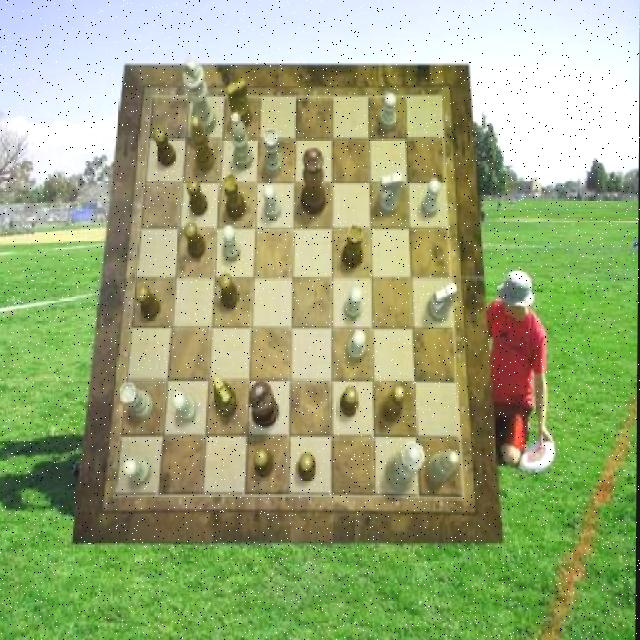bishop: (191, 115, 215, 173), (381, 386, 406, 424)
black-bishop: (249, 381, 279, 427)
black-king: (225, 78, 250, 130), (213, 374, 238, 418)
black-knight: (154, 128, 177, 166), (185, 179, 208, 216), (135, 285, 160, 319), (184, 222, 206, 259), (218, 274, 238, 310), (340, 386, 359, 419), (254, 448, 274, 478), (298, 454, 317, 481)
black-pawn: (300, 149, 327, 217)
black-queen: (222, 174, 245, 220), (342, 224, 363, 268)
black-rook: (230, 112, 253, 170), (428, 449, 459, 483)
white-bishop: (182, 57, 215, 137)
white-king: (428, 283, 458, 322), (379, 172, 403, 215)
white-knight: (173, 391, 197, 422), (123, 457, 151, 483), (421, 180, 440, 218), (222, 226, 240, 262), (262, 184, 280, 220), (344, 288, 363, 322), (379, 92, 396, 130), (346, 331, 366, 363)
white-pawn: (386, 441, 425, 494)
white-queen: (119, 383, 153, 421), (263, 128, 282, 177)
